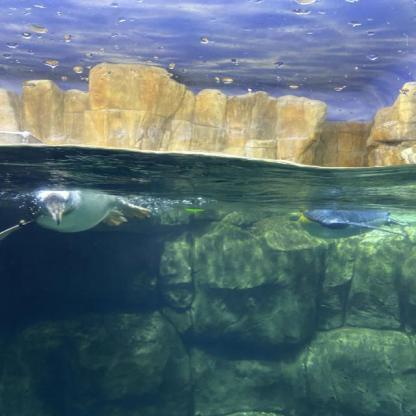penguin: (0, 188, 154, 248), (300, 212, 414, 242)
